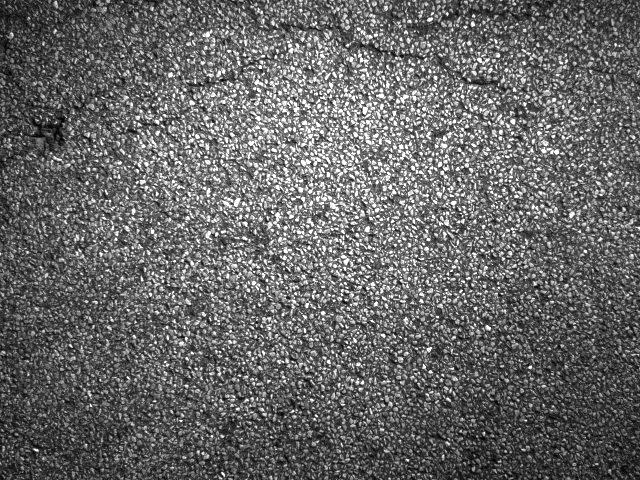crack: (241, 20, 529, 105), (6, 75, 109, 180), (373, 0, 567, 31), (0, 0, 99, 47), (174, 54, 283, 94), (128, 107, 195, 137)
